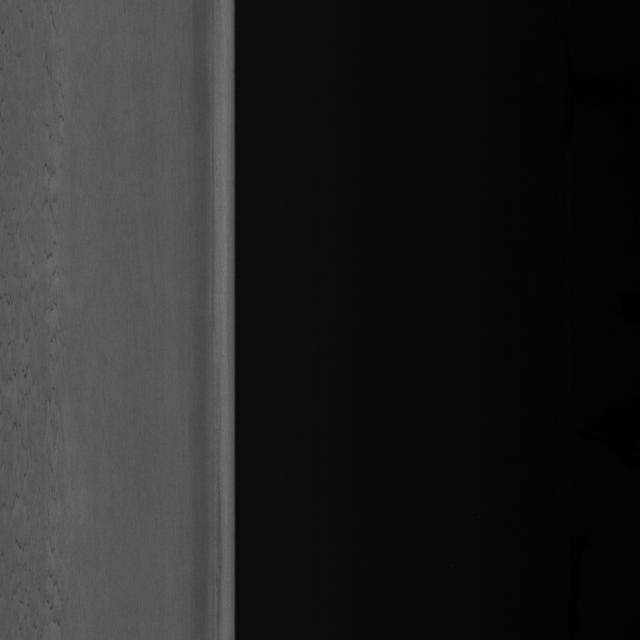inclusion: (12, 59, 90, 523)
